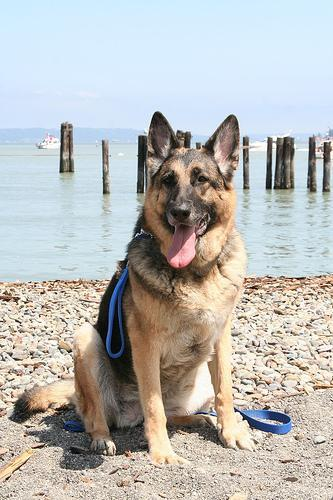German_shepherd: (8, 110, 255, 465)
